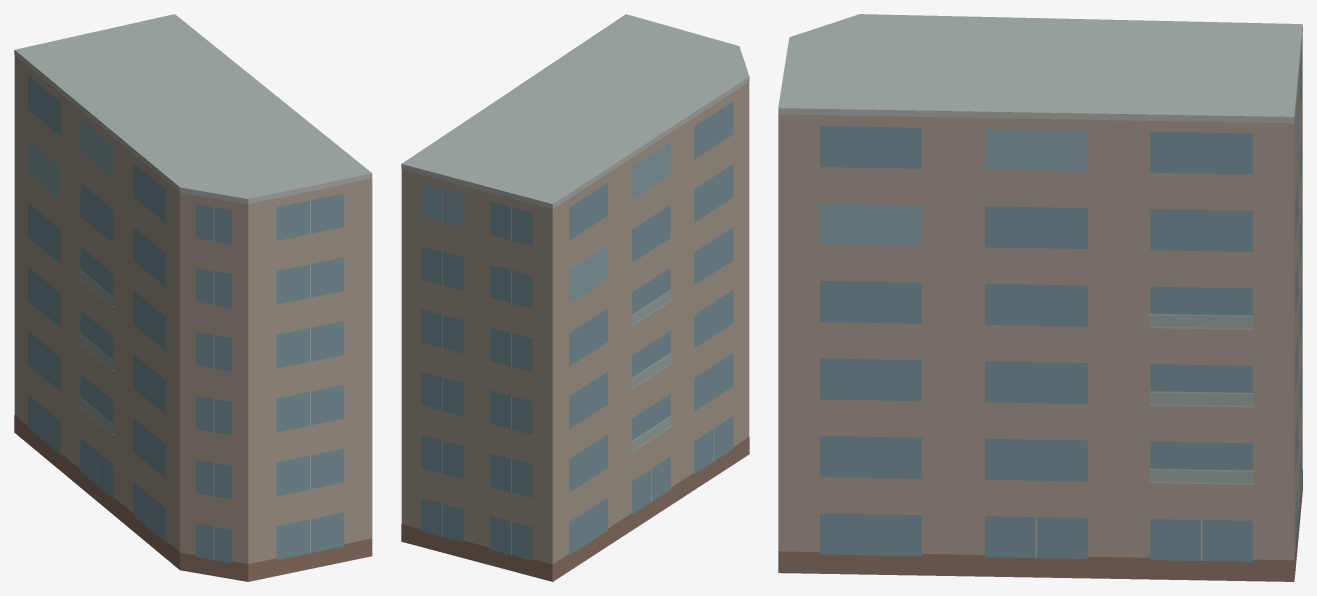
The model's file is survey-upis-33040715.glb.
3 renders of one model, left to right at view 1: azimuth 30°, elevation 25°; view 2: azimuth 150°, elevation 25°; view 3: azimuth 270°, elevation 25°, orthographic. The views are drawn at different scales.
Visible parts, largest first — view 1: survey-upis-33040715.tmp; view 2: survey-upis-33040715.tmp; view 3: survey-upis-33040715.tmp.
Boxes of the visible parts, <box> form: survey-upis-33040715.tmp: <box>14,14,372,581</box>; survey-upis-33040715.tmp: <box>401,14,749,581</box>; survey-upis-33040715.tmp: <box>778,14,1302,581</box>.
Size of the model in its own units: 8.54 by 17.95 by 18.37.
